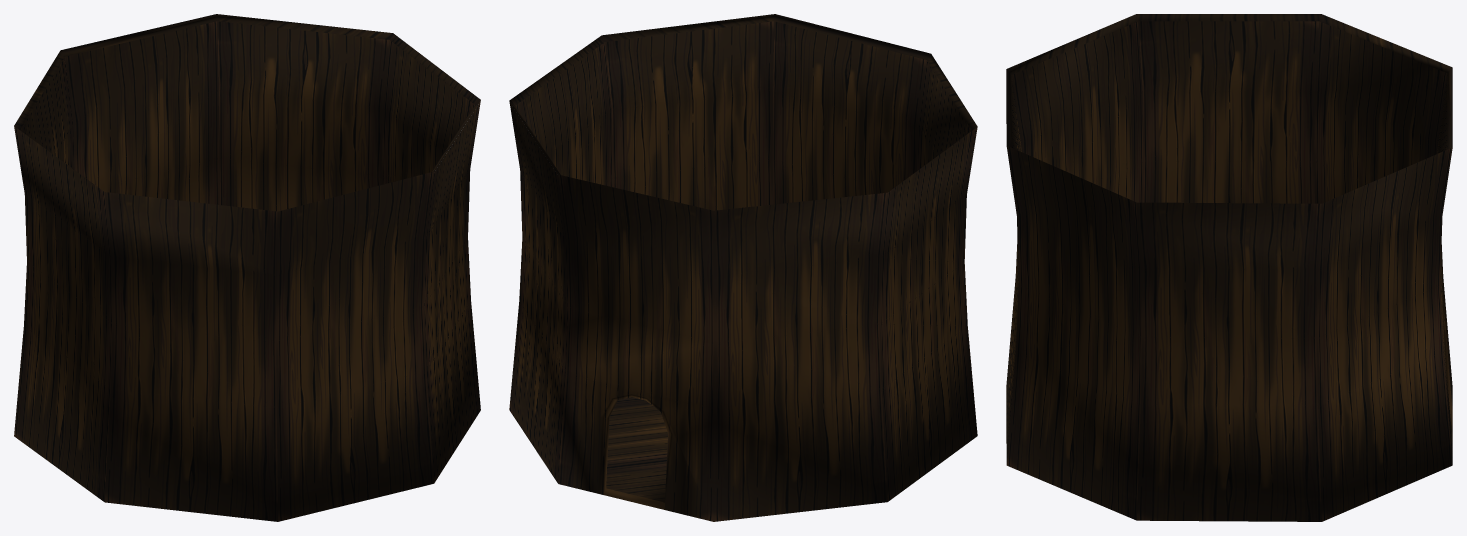
Rendered from Stump1.fbx.
The picture shows the model from 3 angles, left to right: view 1: azimuth 30°, elevation 25°; view 2: azimuth 150°, elevation 25°; view 3: azimuth 270°, elevation 25°; orthographic projection. The views are drawn at different scales.
Parts seen in each view (by area): view 1: Final_Stump; view 2: Final_Stump; view 3: Final_Stump.
Boxes of the visible parts, box(x1,y1,x2,y2) form: Final_Stump: box(14, 14, 480, 521); Final_Stump: box(509, 14, 977, 521); Final_Stump: box(1006, 14, 1452, 521).
Size of the model in its own units: 8.17 by 8.12 by 6.42.
Materials: 1 (1 with a texture image).
